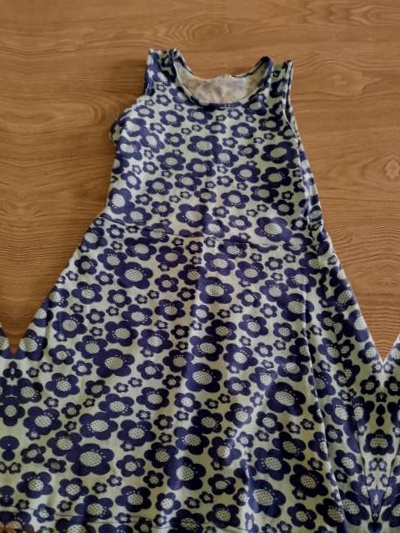Dress: (6, 32, 399, 533), (0, 13, 26, 533), (373, 50, 400, 533)
